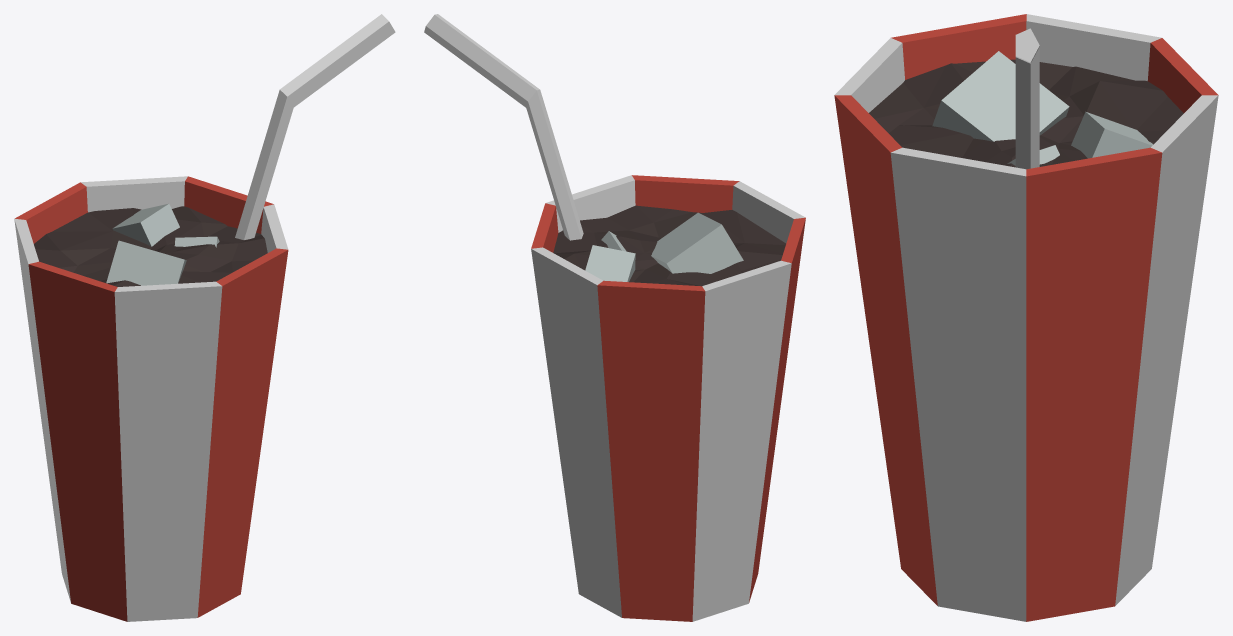
Rendered from Cocktail_2_Red_vc.fbx.
The picture shows the model from 3 angles, left to right: view 1: azimuth 30°, elevation 25°; view 2: azimuth 150°, elevation 25°; view 3: azimuth 270°, elevation 25°; orthographic projection. The views are drawn at different scales.
Parts seen in each view (by area): view 1: Cocktail_2_Red_vc; view 2: Cocktail_2_Red_vc; view 3: Cocktail_2_Red_vc.
Part boxes in pixels (x1,y1,x2,y2): Cocktail_2_Red_vc: [14, 14, 395, 621]; Cocktail_2_Red_vc: [424, 14, 805, 621]; Cocktail_2_Red_vc: [834, 14, 1218, 621].
Size of the model in its own units: 30.69 by 41.15 by 20.66.
